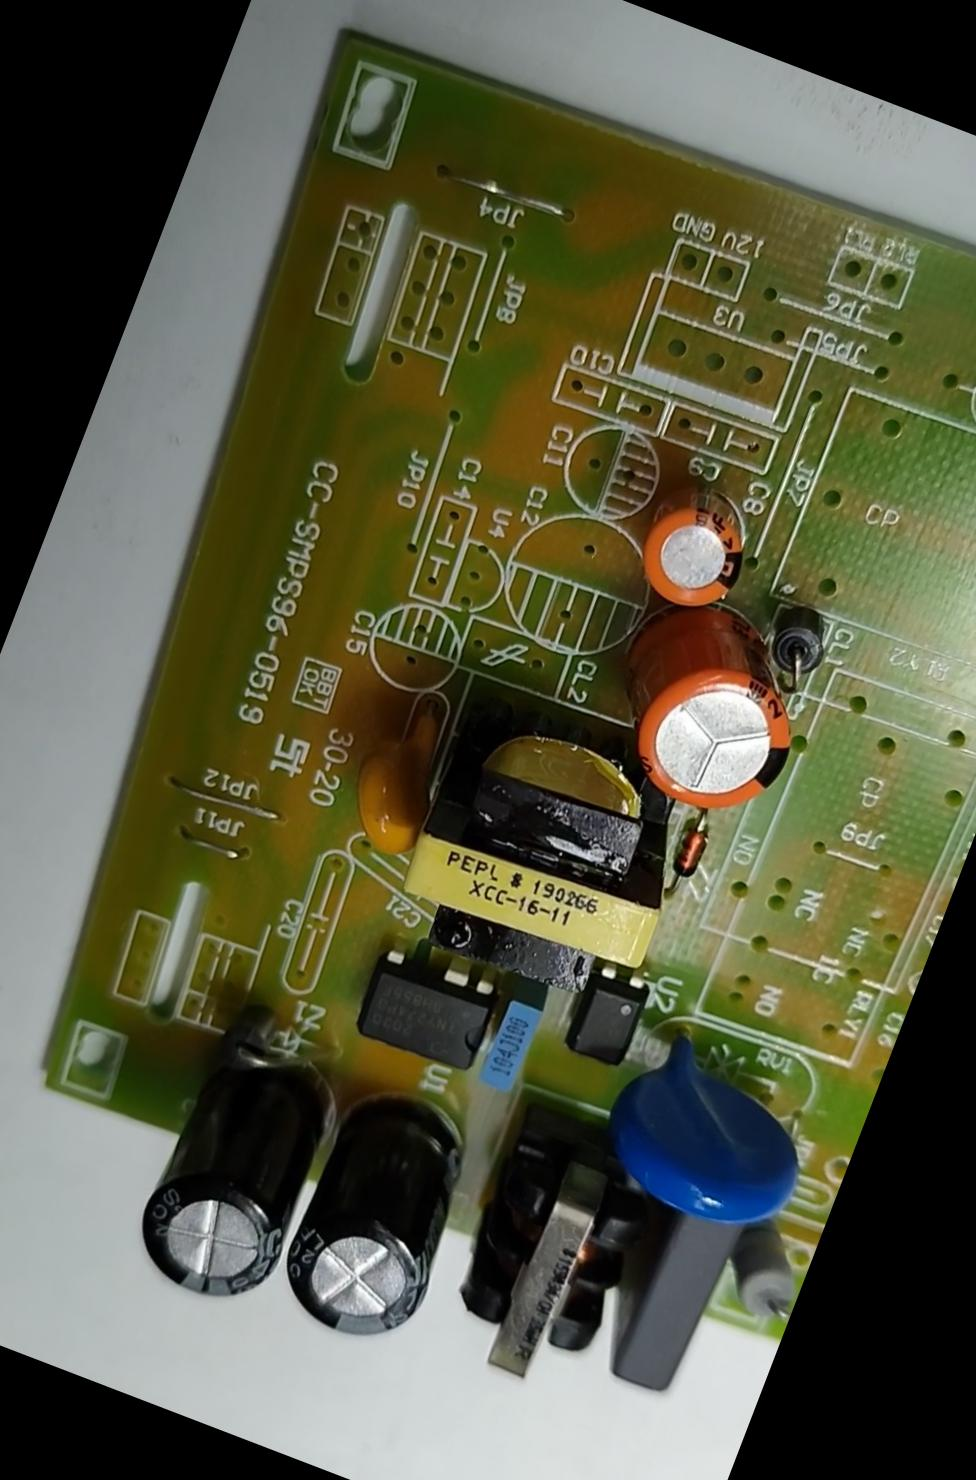Cap1: (558, 567, 839, 841)
Cap2: (615, 449, 779, 631)
Cap3: (253, 1054, 504, 1373)
Cap4: (111, 1007, 355, 1328)
MOSFET: (345, 938, 507, 1085)
Mov: (581, 1003, 840, 1253)
Resistor: (706, 1208, 819, 1336)
Transformer: (375, 676, 717, 987), (417, 1090, 678, 1421)
